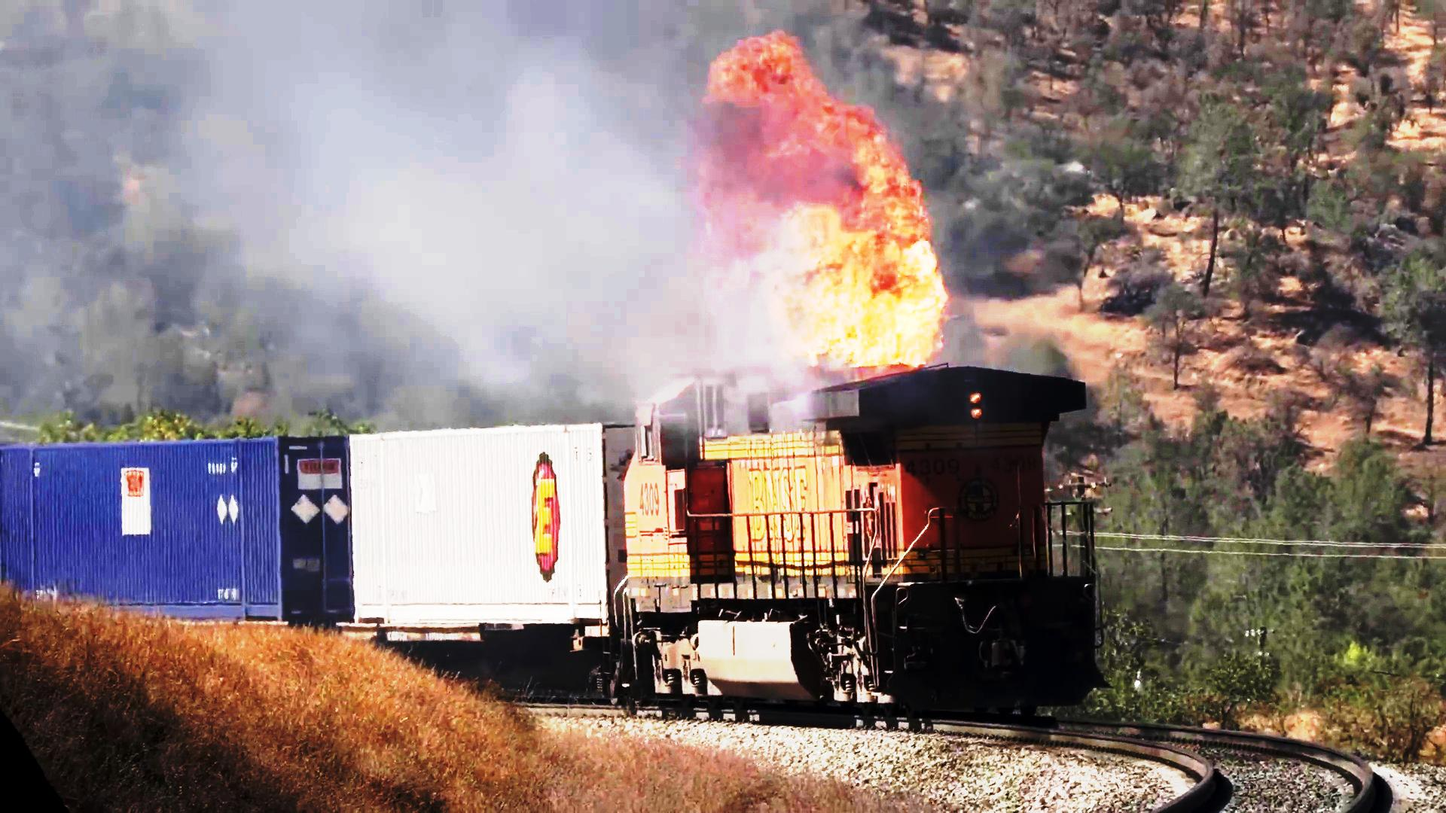fire: (727, 25, 942, 359)
smoke: (242, 0, 650, 356)
